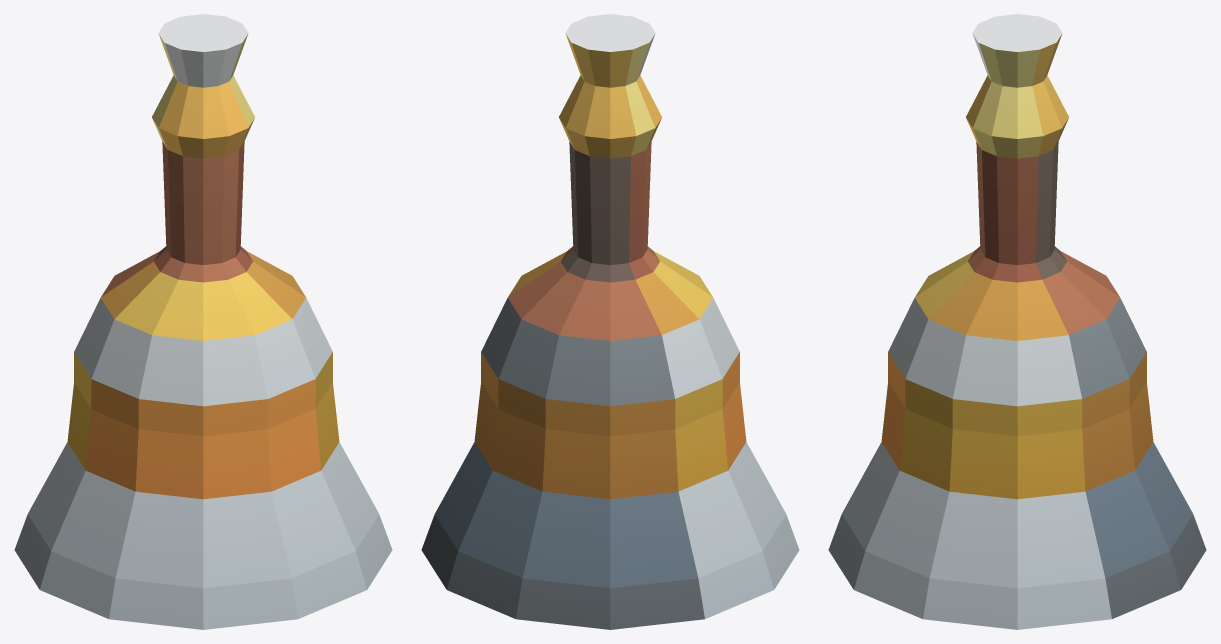
The model's file is source.glb.
The picture shows the model from 3 angles, left to right: view 1: azimuth 30°, elevation 25°; view 2: azimuth 150°, elevation 25°; view 3: azimuth 270°, elevation 25°; orthographic projection.
Parts seen in each view (by area): view 1: model; view 2: model; view 3: model.
Part boxes in pixels (left/top/right/bottom): model: left=14, top=14, right=392, bottom=629; model: left=421, top=14, right=799, bottom=629; model: left=828, top=14, right=1206, bottom=629.
Bounding box in the file's own units: 0.57 × 0.9538 × 0.57.
Materials: 1 (1 with a texture image).
